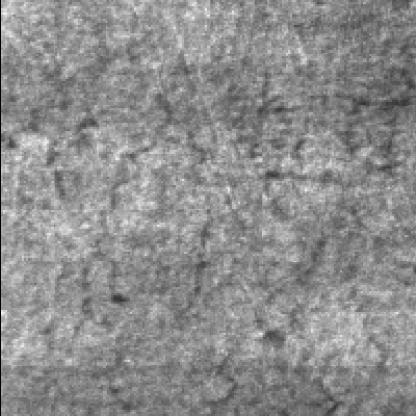crazing: (31, 54, 133, 345), (94, 54, 208, 308)
